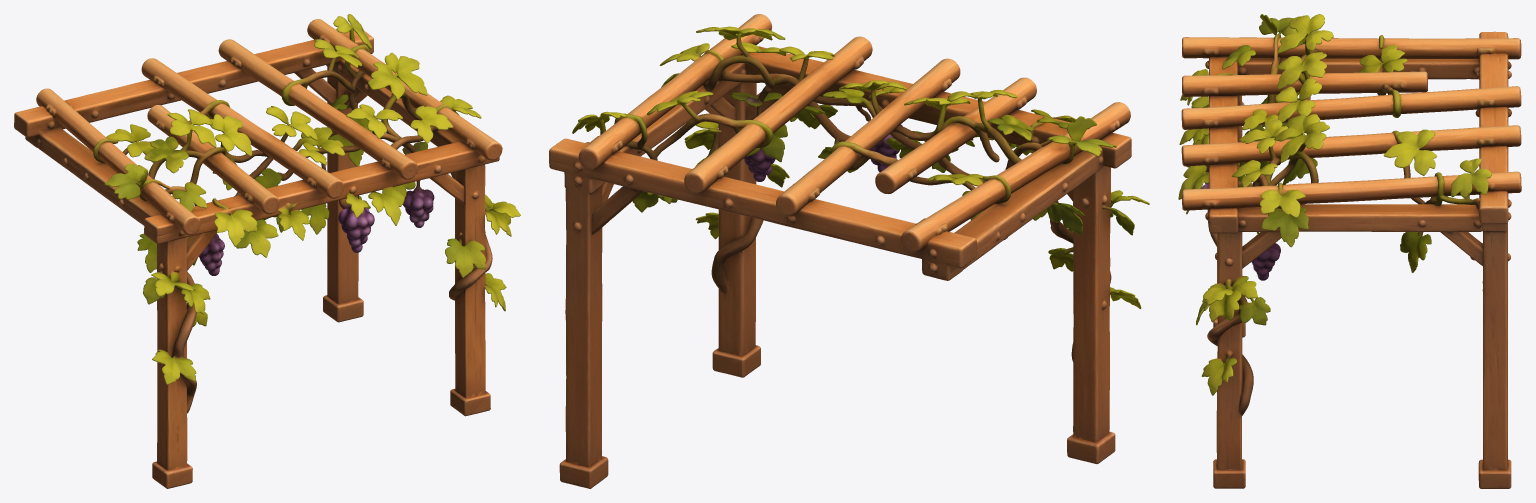
The model's file is grapevine-pergola.glb.
3 views of the same model, side by side, from view 1: azimuth 30°, elevation 25°; view 2: azimuth 150°, elevation 25°; view 3: azimuth 270°, elevation 25° (orthographic). The views are drawn at different scales.
Visible parts, largest first — view 1: tripo_node_4b914929-0488-4904-89c0-e1476b146426; view 2: tripo_node_4b914929-0488-4904-89c0-e1476b146426; view 3: tripo_node_4b914929-0488-4904-89c0-e1476b146426.
Boxes of the visible parts, left/top/right/bottom form: tripo_node_4b914929-0488-4904-89c0-e1476b146426: left=14, top=14, right=520, bottom=488; tripo_node_4b914929-0488-4904-89c0-e1476b146426: left=549, top=14, right=1149, bottom=488; tripo_node_4b914929-0488-4904-89c0-e1476b146426: left=1178, top=14, right=1521, bottom=488.
Bounding box in the file's own units: 1 × 0.8304 × 0.757.
1 material, 1 textured.
